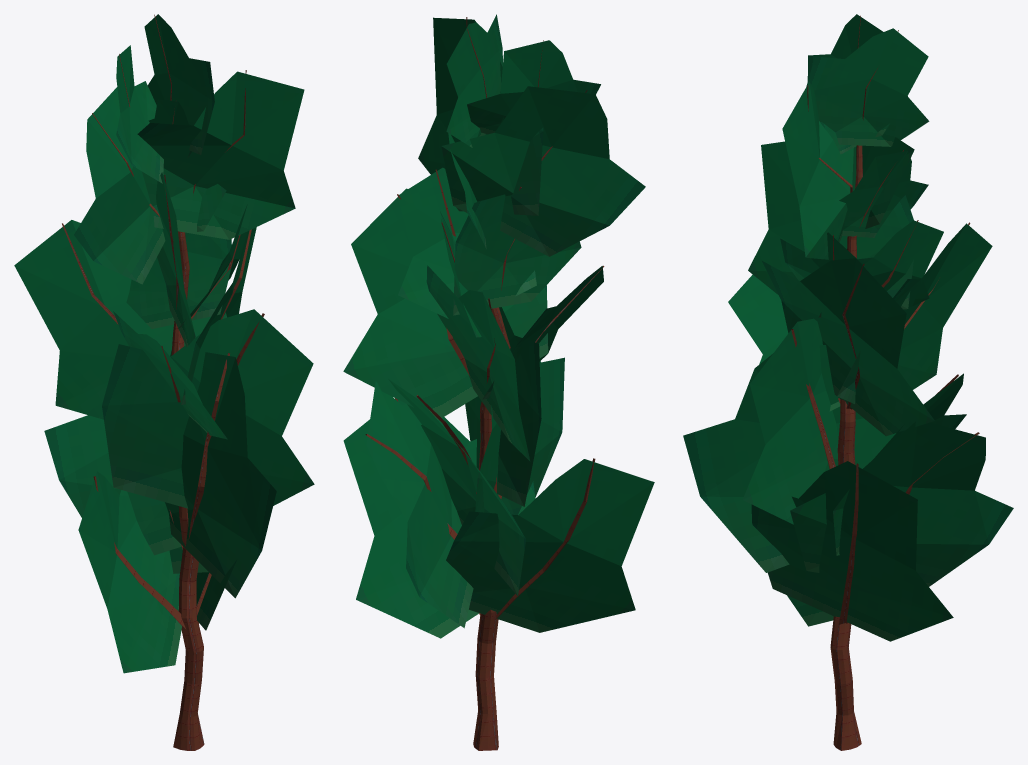
The model's file is Birch_Tree_04.fbx.
The picture shows the model from 3 angles, left to right: view 1: azimuth 30°, elevation 25°; view 2: azimuth 150°, elevation 25°; view 3: azimuth 270°, elevation 25°; orthographic projection. The views are drawn at different scales.
Visible parts, largest first — view 1: SM_Tree_Birch_04.mo; view 2: SM_Tree_Birch_04.mo; view 3: SM_Tree_Birch_04.mo.
Part boxes in pixels (x1,y1,x2,y2): SM_Tree_Birch_04.mo: (14,14,314,750); SM_Tree_Birch_04.mo: (343,14,654,750); SM_Tree_Birch_04.mo: (683,14,1013,750).
Bounding box in the file's own units: 397 × 1138 × 479.
